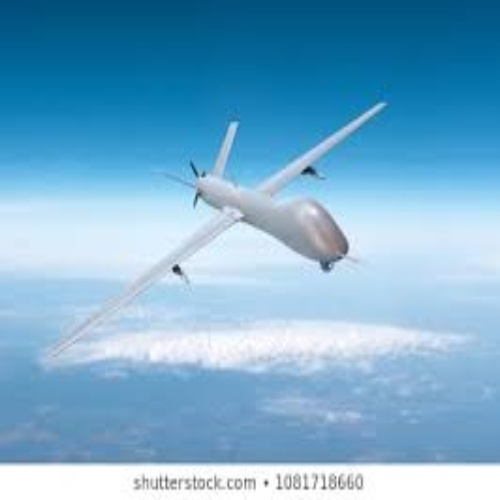uav: (50, 97, 394, 367)
